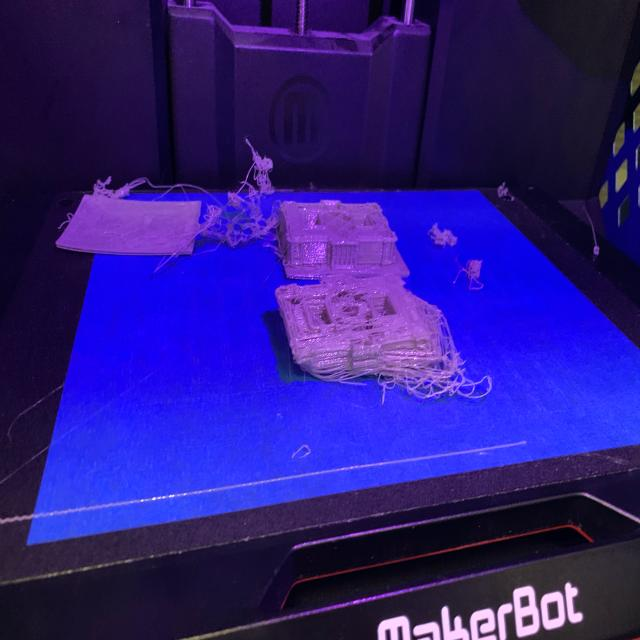spaghetti: (92, 144, 284, 256), (363, 306, 502, 404), (424, 217, 494, 292)
